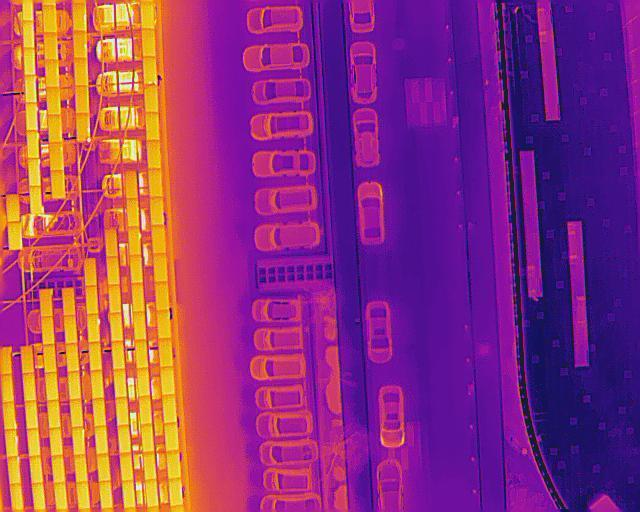Cell: (77, 113, 91, 142), (74, 31, 87, 58)
Cell-Multi: (144, 57, 157, 86)
No-Anomaly: (31, 482, 46, 510), (22, 372, 36, 401), (24, 400, 38, 429), (27, 427, 41, 456), (97, 453, 111, 482), (152, 225, 166, 254), (2, 402, 16, 430), (99, 481, 113, 509), (21, 346, 35, 374), (88, 342, 102, 370), (51, 455, 65, 483), (146, 113, 160, 141), (106, 257, 120, 285), (154, 253, 168, 281), (51, 170, 65, 198), (76, 481, 90, 509), (120, 452, 133, 482), (10, 483, 24, 510), (95, 426, 109, 453), (7, 456, 21, 483), (43, 5, 57, 32), (8, 223, 22, 250), (141, 424, 154, 453), (163, 395, 176, 424), (67, 343, 80, 372), (160, 339, 173, 368), (149, 168, 162, 197), (50, 428, 63, 457), (132, 283, 145, 312), (156, 282, 169, 311), (108, 285, 121, 314), (54, 483, 68, 509), (1, 375, 14, 403), (72, 427, 85, 455), (70, 399, 83, 427), (68, 372, 81, 400), (47, 400, 60, 428), (91, 371, 104, 399), (116, 397, 129, 425), (118, 425, 131, 453), (43, 344, 56, 372), (75, 454, 88, 482), (170, 478, 183, 506), (42, 316, 55, 344), (62, 287, 75, 315), (106, 229, 119, 257), (148, 141, 161, 169), (75, 58, 88, 86), (64, 315, 77, 343), (76, 85, 89, 113), (30, 456, 43, 484), (143, 29, 156, 57), (46, 59, 59, 87), (85, 286, 98, 314), (7, 195, 20, 223), (49, 115, 62, 143), (47, 87, 60, 115), (51, 142, 64, 170), (45, 373, 58, 400), (93, 398, 106, 425), (141, 3, 154, 30), (5, 429, 18, 456), (143, 453, 156, 480), (110, 313, 123, 340), (84, 259, 97, 286), (45, 32, 58, 59), (136, 339, 148, 368), (158, 310, 170, 339), (146, 480, 159, 506), (122, 481, 135, 507), (40, 290, 53, 316), (114, 369, 126, 397), (166, 423, 178, 451), (0, 346, 12, 374), (162, 367, 174, 395), (113, 341, 125, 369), (146, 85, 158, 113), (88, 314, 100, 342), (25, 75, 37, 103), (27, 130, 39, 158), (152, 197, 164, 225), (26, 103, 38, 131), (140, 397, 152, 424), (126, 171, 138, 198), (168, 451, 180, 478), (134, 312, 146, 339), (139, 368, 150, 397), (131, 255, 142, 284), (128, 198, 139, 227), (129, 228, 141, 254), (29, 158, 40, 186), (24, 21, 35, 48), (25, 48, 36, 75), (30, 186, 41, 213)
Unclassified: (73, 3, 87, 31)
